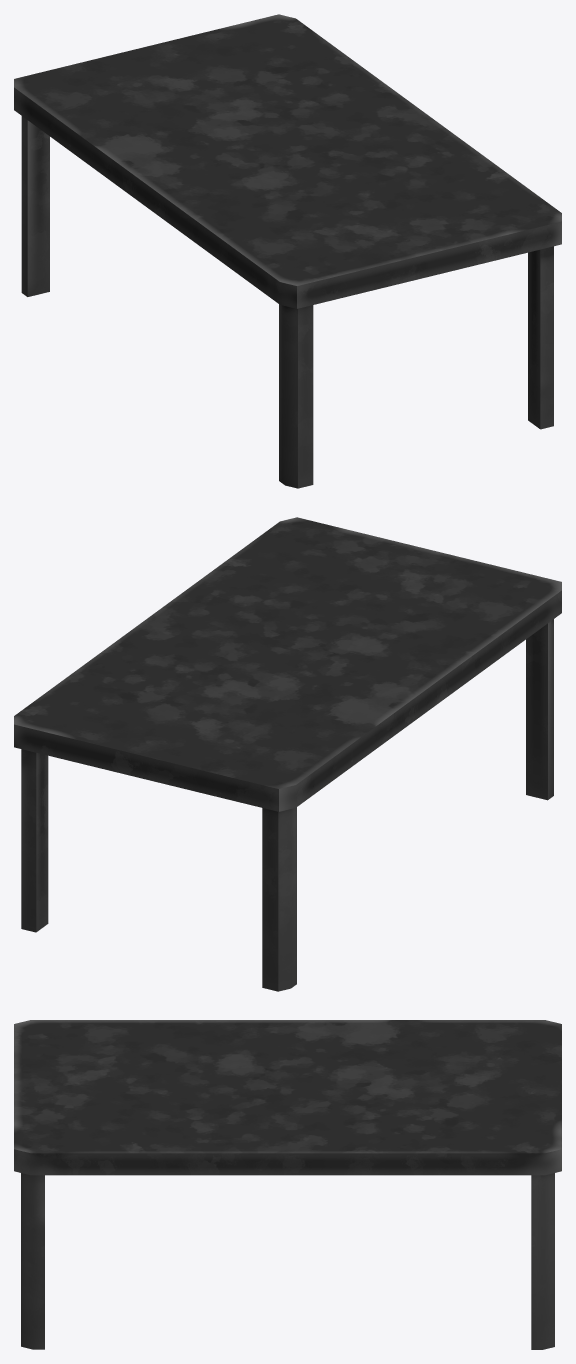
File: Factory_Table2.fbx
3 renders of one model, top to bottom at view 1: azimuth 30°, elevation 25°; view 2: azimuth 150°, elevation 25°; view 3: azimuth 270°, elevation 25°, orthographic. The views are drawn at different scales.
Visible parts, largest first — view 1: Table; view 2: Table; view 3: Table.
Part boxes in pixels (x1,y1,x2,y2): Table: (14,14,561,488); Table: (14,517,561,991); Table: (14,1020,561,1349).
Size of the model in its own units: 106 by 74.38 by 185.
1 material, 1 textured.
